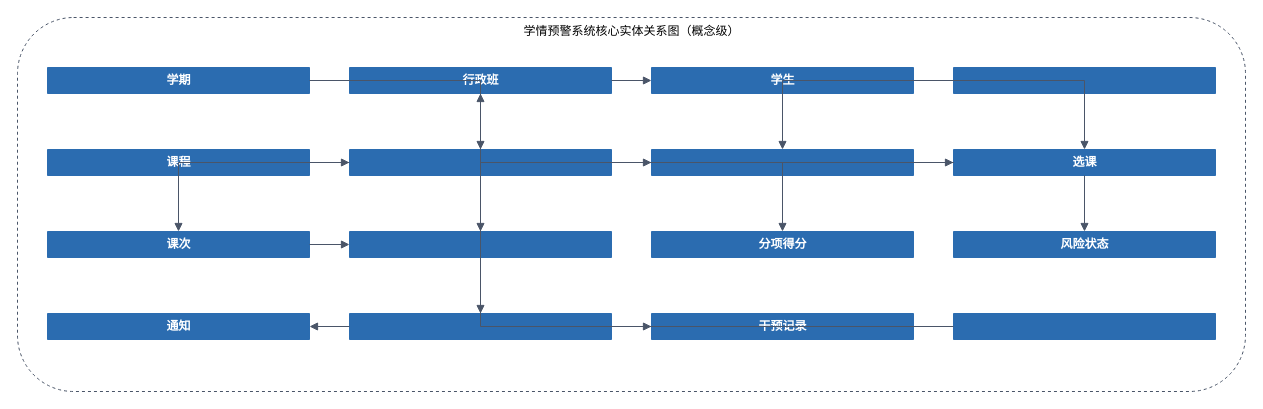
The diagram is 1263 pixels wide and 409 high, and some of its shapes have lost their labels. The centre of each missing label's shape, as x and y in pixels:
"开课实例" goes at point (480, 162).
"教学班" goes at point (782, 162).
"教师" goes at point (1084, 80).
"考勤记录" goes at point (480, 244).
"辅导员" goes at point (1084, 326).
"预警记录" goes at point (480, 326).
